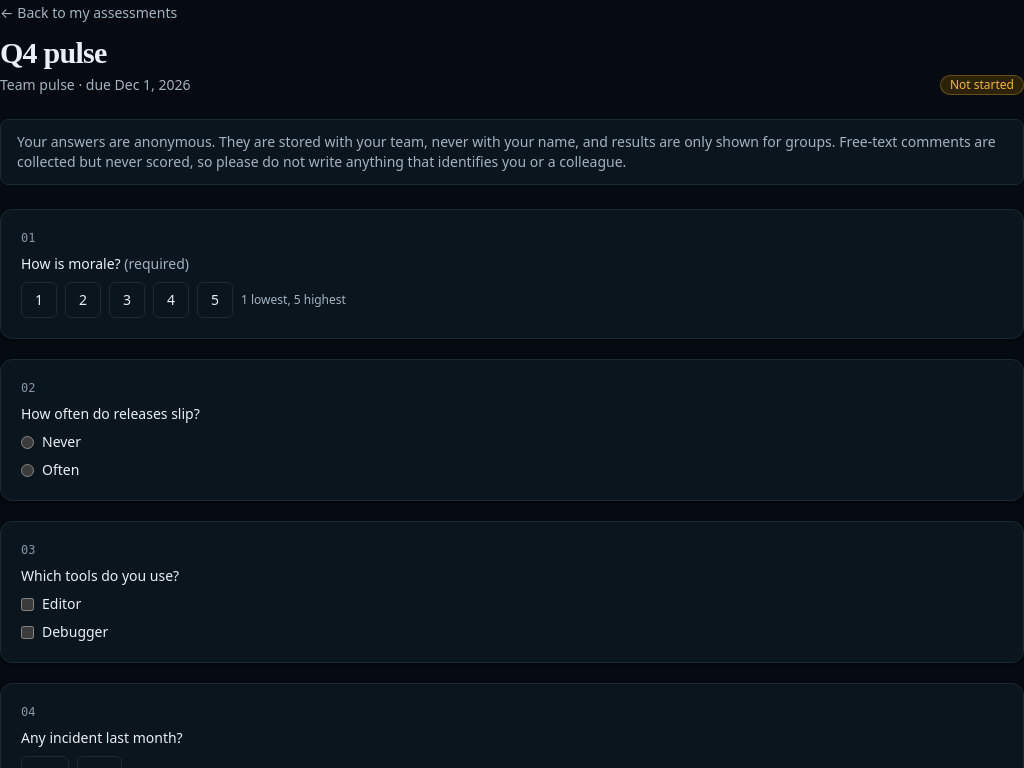
Test: RespondPage › saves and then submits, and thanks the respondent without showing the answers again
Click the radio button labelled "2": (83,300) [65,282,101,318]
(page scrolled)
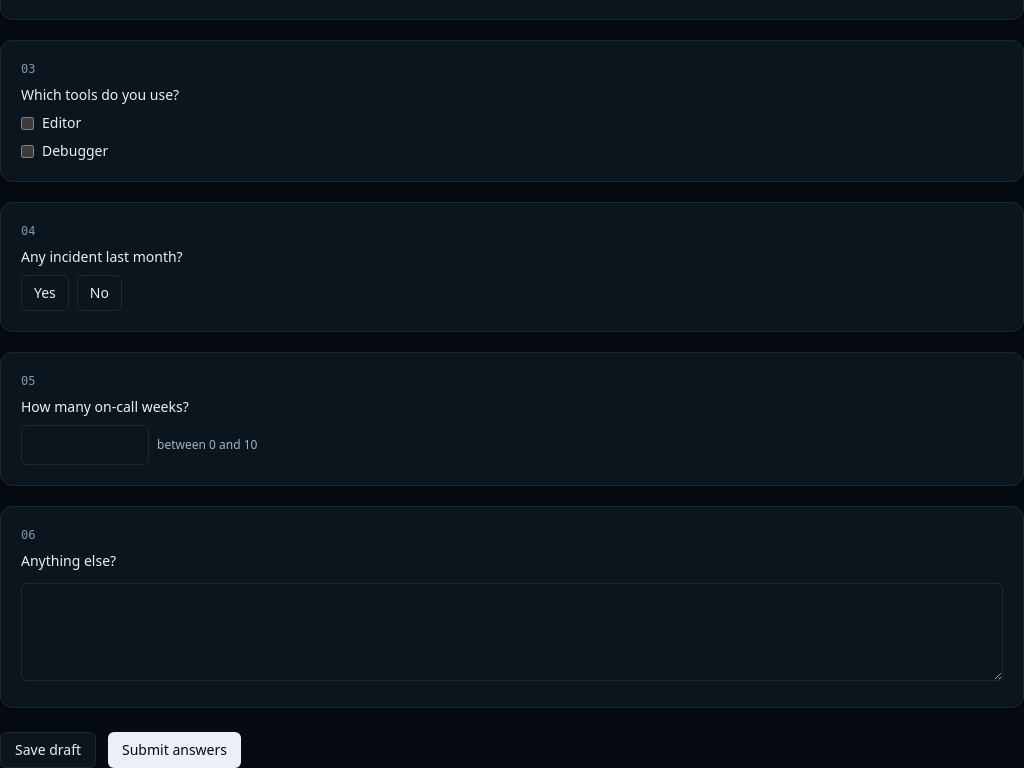
Click the button "Submit answers": (174,750) [108,732,241,767]
(page scrolled)
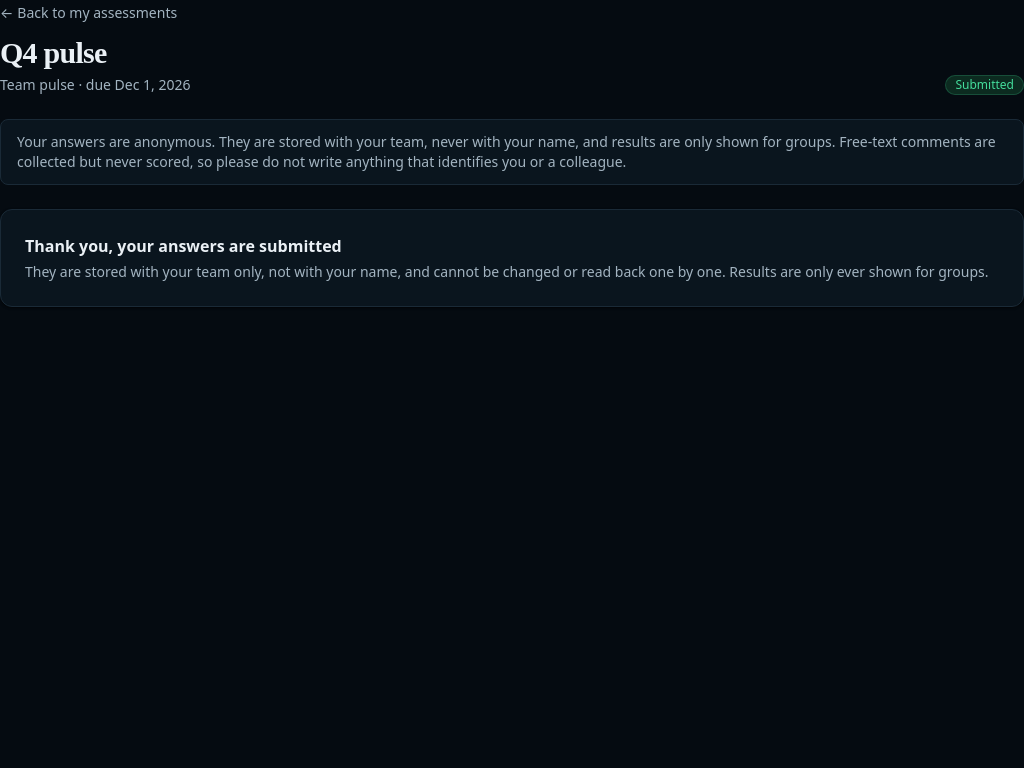
Expected: the heading "Thank you, your answers are submitted" is shown, [25,235,342,257]
Expected: the radio button is gone
Expected: the text "stored with your team only, not with your name" is shown, [25,262,989,281]
